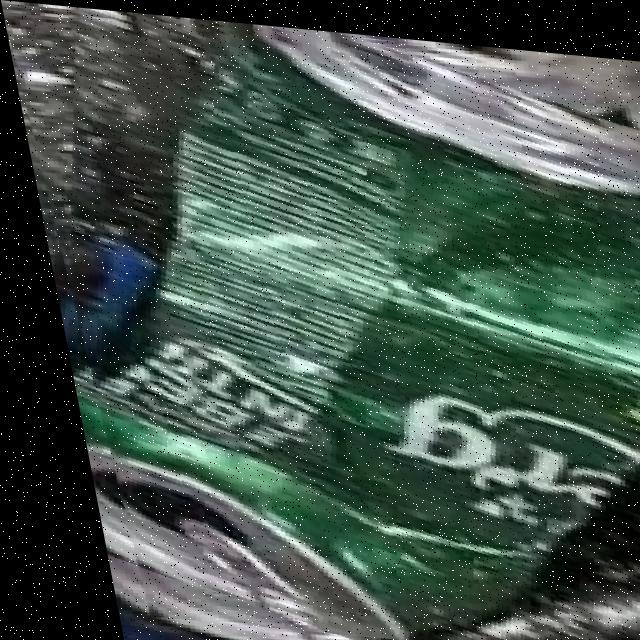litter: (74, 24, 640, 635)
